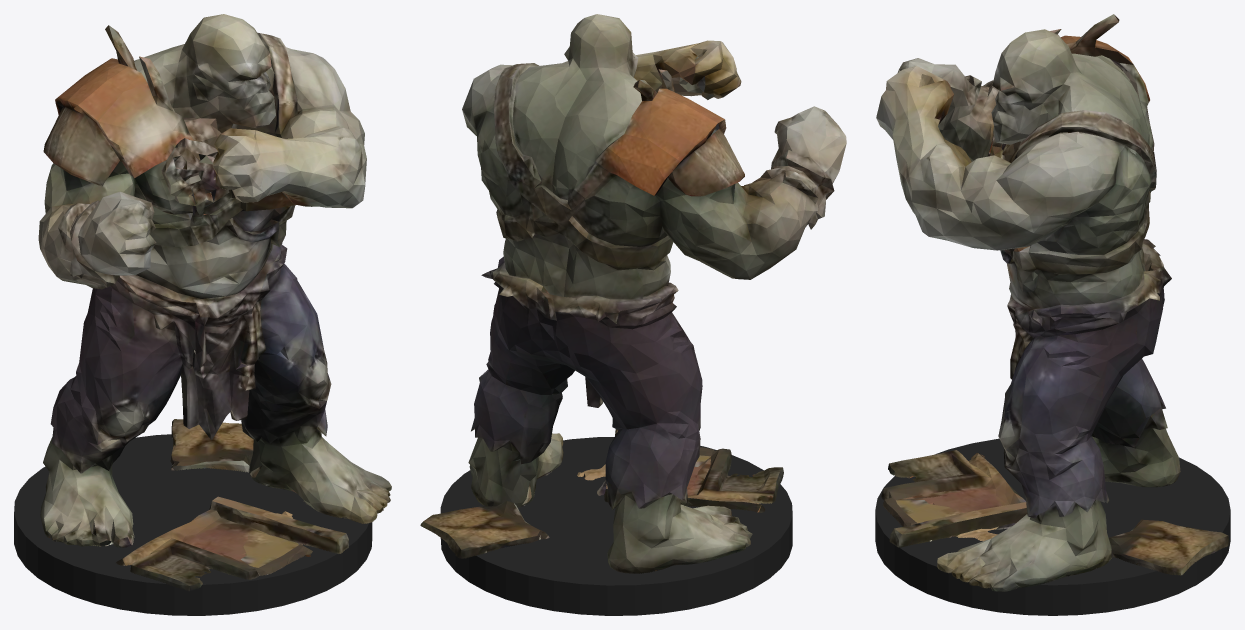
File: super-mutant@heavy.glb
3 renders of one model, left to right at view 1: azimuth 30°, elevation 25°; view 2: azimuth 150°, elevation 25°; view 3: azimuth 270°, elevation 25°, orthographic.
Parts seen in each view (by area): view 1: figure, base; view 2: figure, base; view 3: figure, base.
Boxes of the visible parts, x1,y1,x2,y2 form: figure: (38, 14, 391, 591); base: (14, 434, 372, 615); figure: (420, 14, 846, 573); base: (440, 437, 792, 615); figure: (876, 14, 1229, 592); base: (875, 438, 1230, 615).
Bounding box in the file's own units: 1.38 × 2.02 × 1.26.
Materials: 2 (1 with a texture image).
